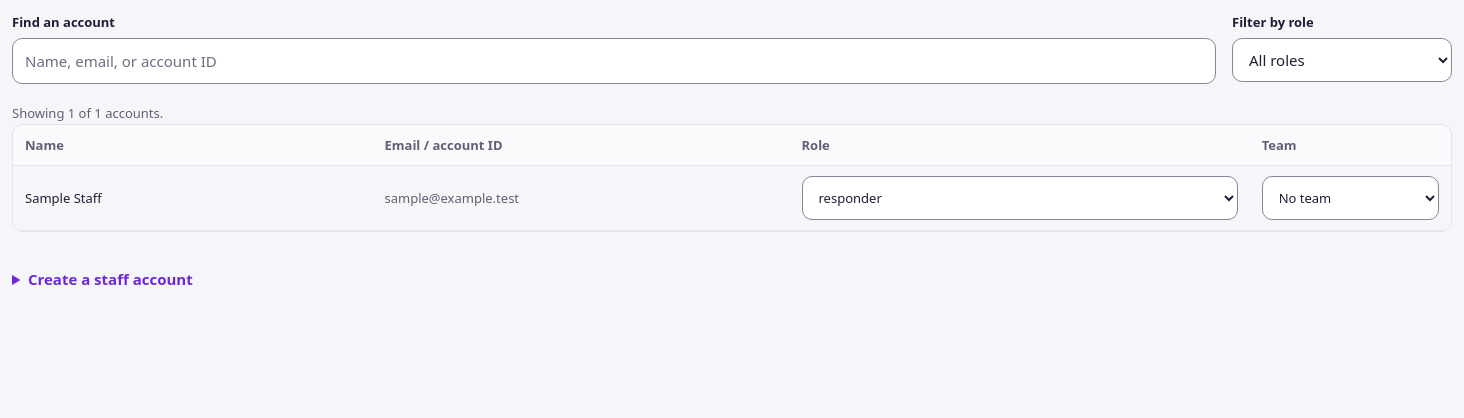
Test: returns focus to search when a role update removes a row from the selected filter
The image size is (1464, 418).
Select "responder" in the dropdown labelled "Filter by role" at (1342, 60), box x1=1232 y1=38 x2=1452 y2=82
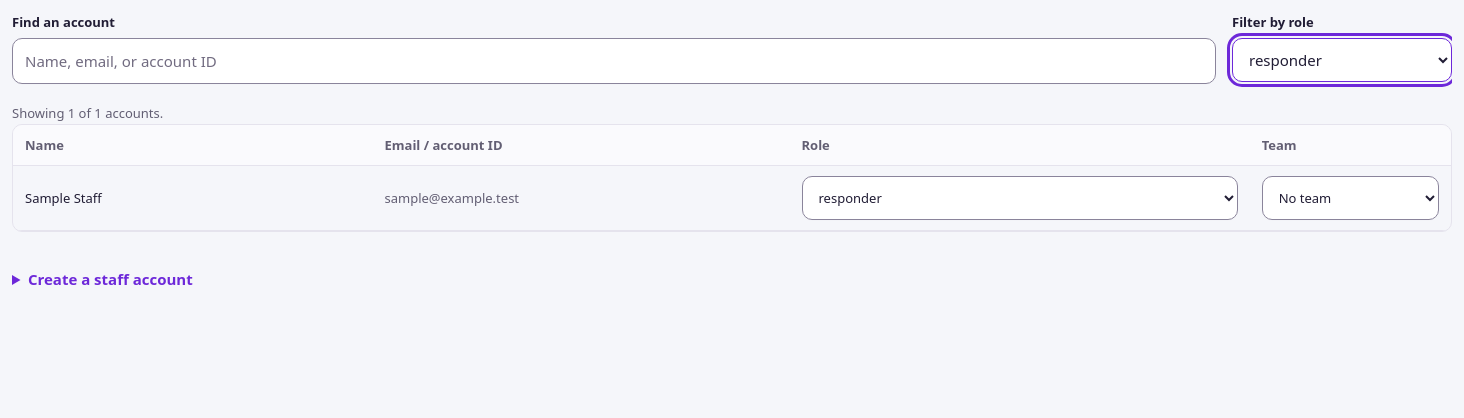
Select "admin" in the dropdown named "Role for Sample Staff" at (1020, 198), box x1=802 y1=176 x2=1238 y2=220
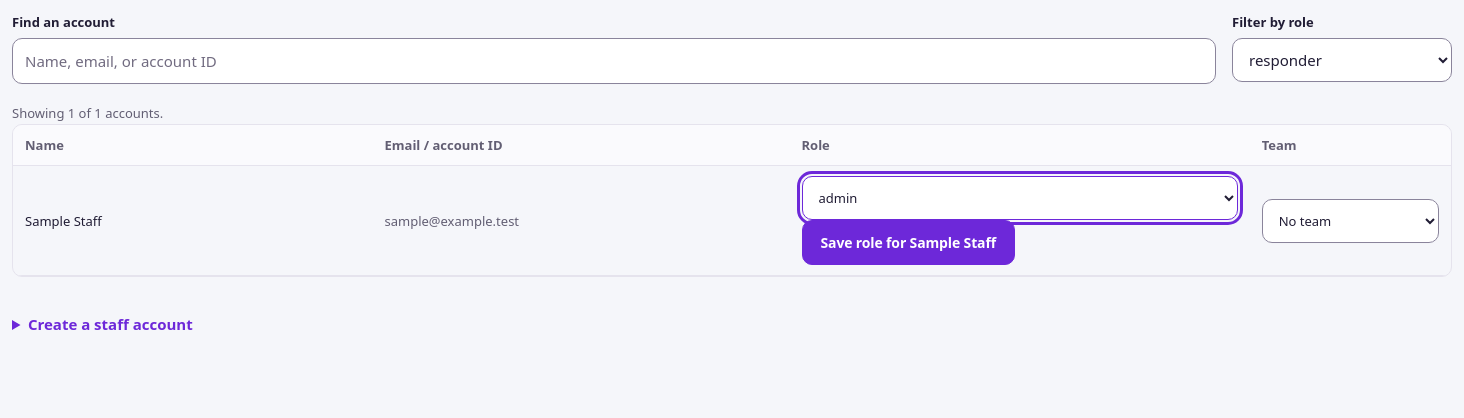
Click the button "Save role for Sample Staff".
click(908, 243)  # box x1=802 y1=220 x2=1015 y2=266
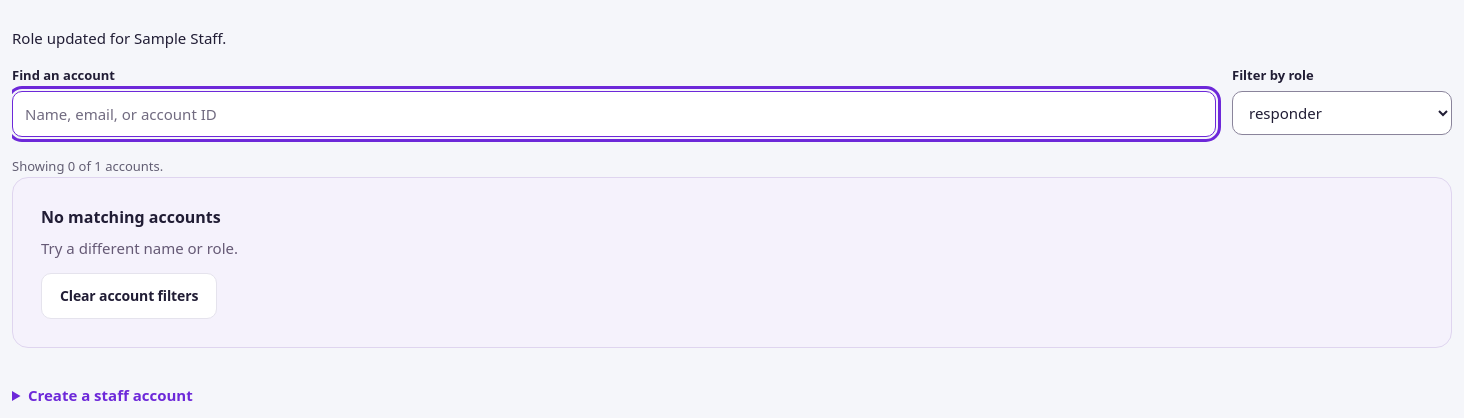
Now the text "Role updated for Sample Staff." is shown, box x1=12 y1=28 x2=226 y2=48
Now the button labelled "role for Sample Staff" is gone
